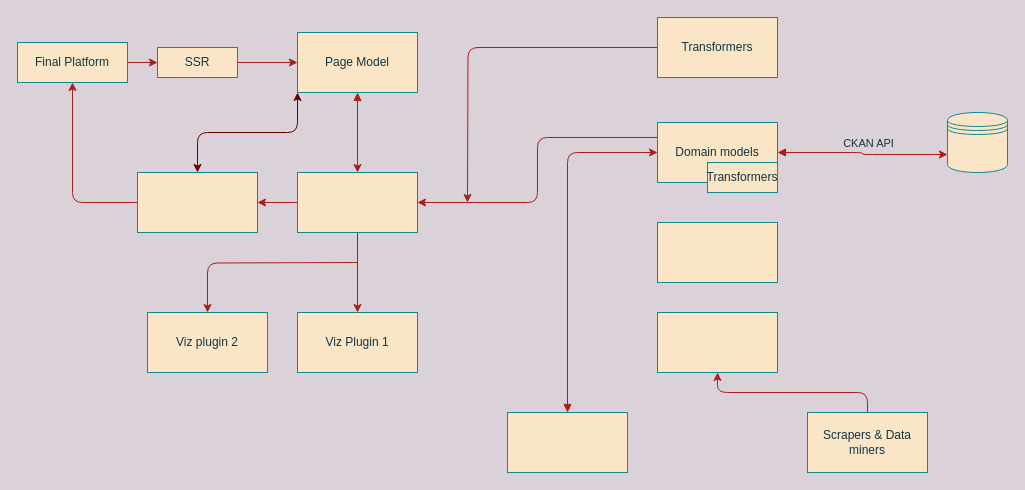
Some shapes in this 1025 by 490 pixel diagram are drawn without their labels. Here are the shapes that lost their labels. From the top down, the centre of each, then its label:
At point 197,202: "CMS".
At point 357,202: "Resource Model".
At point 717,252: "Auth models".
At point 717,342: "Middle ware".
At point 567,442: "Open API".
